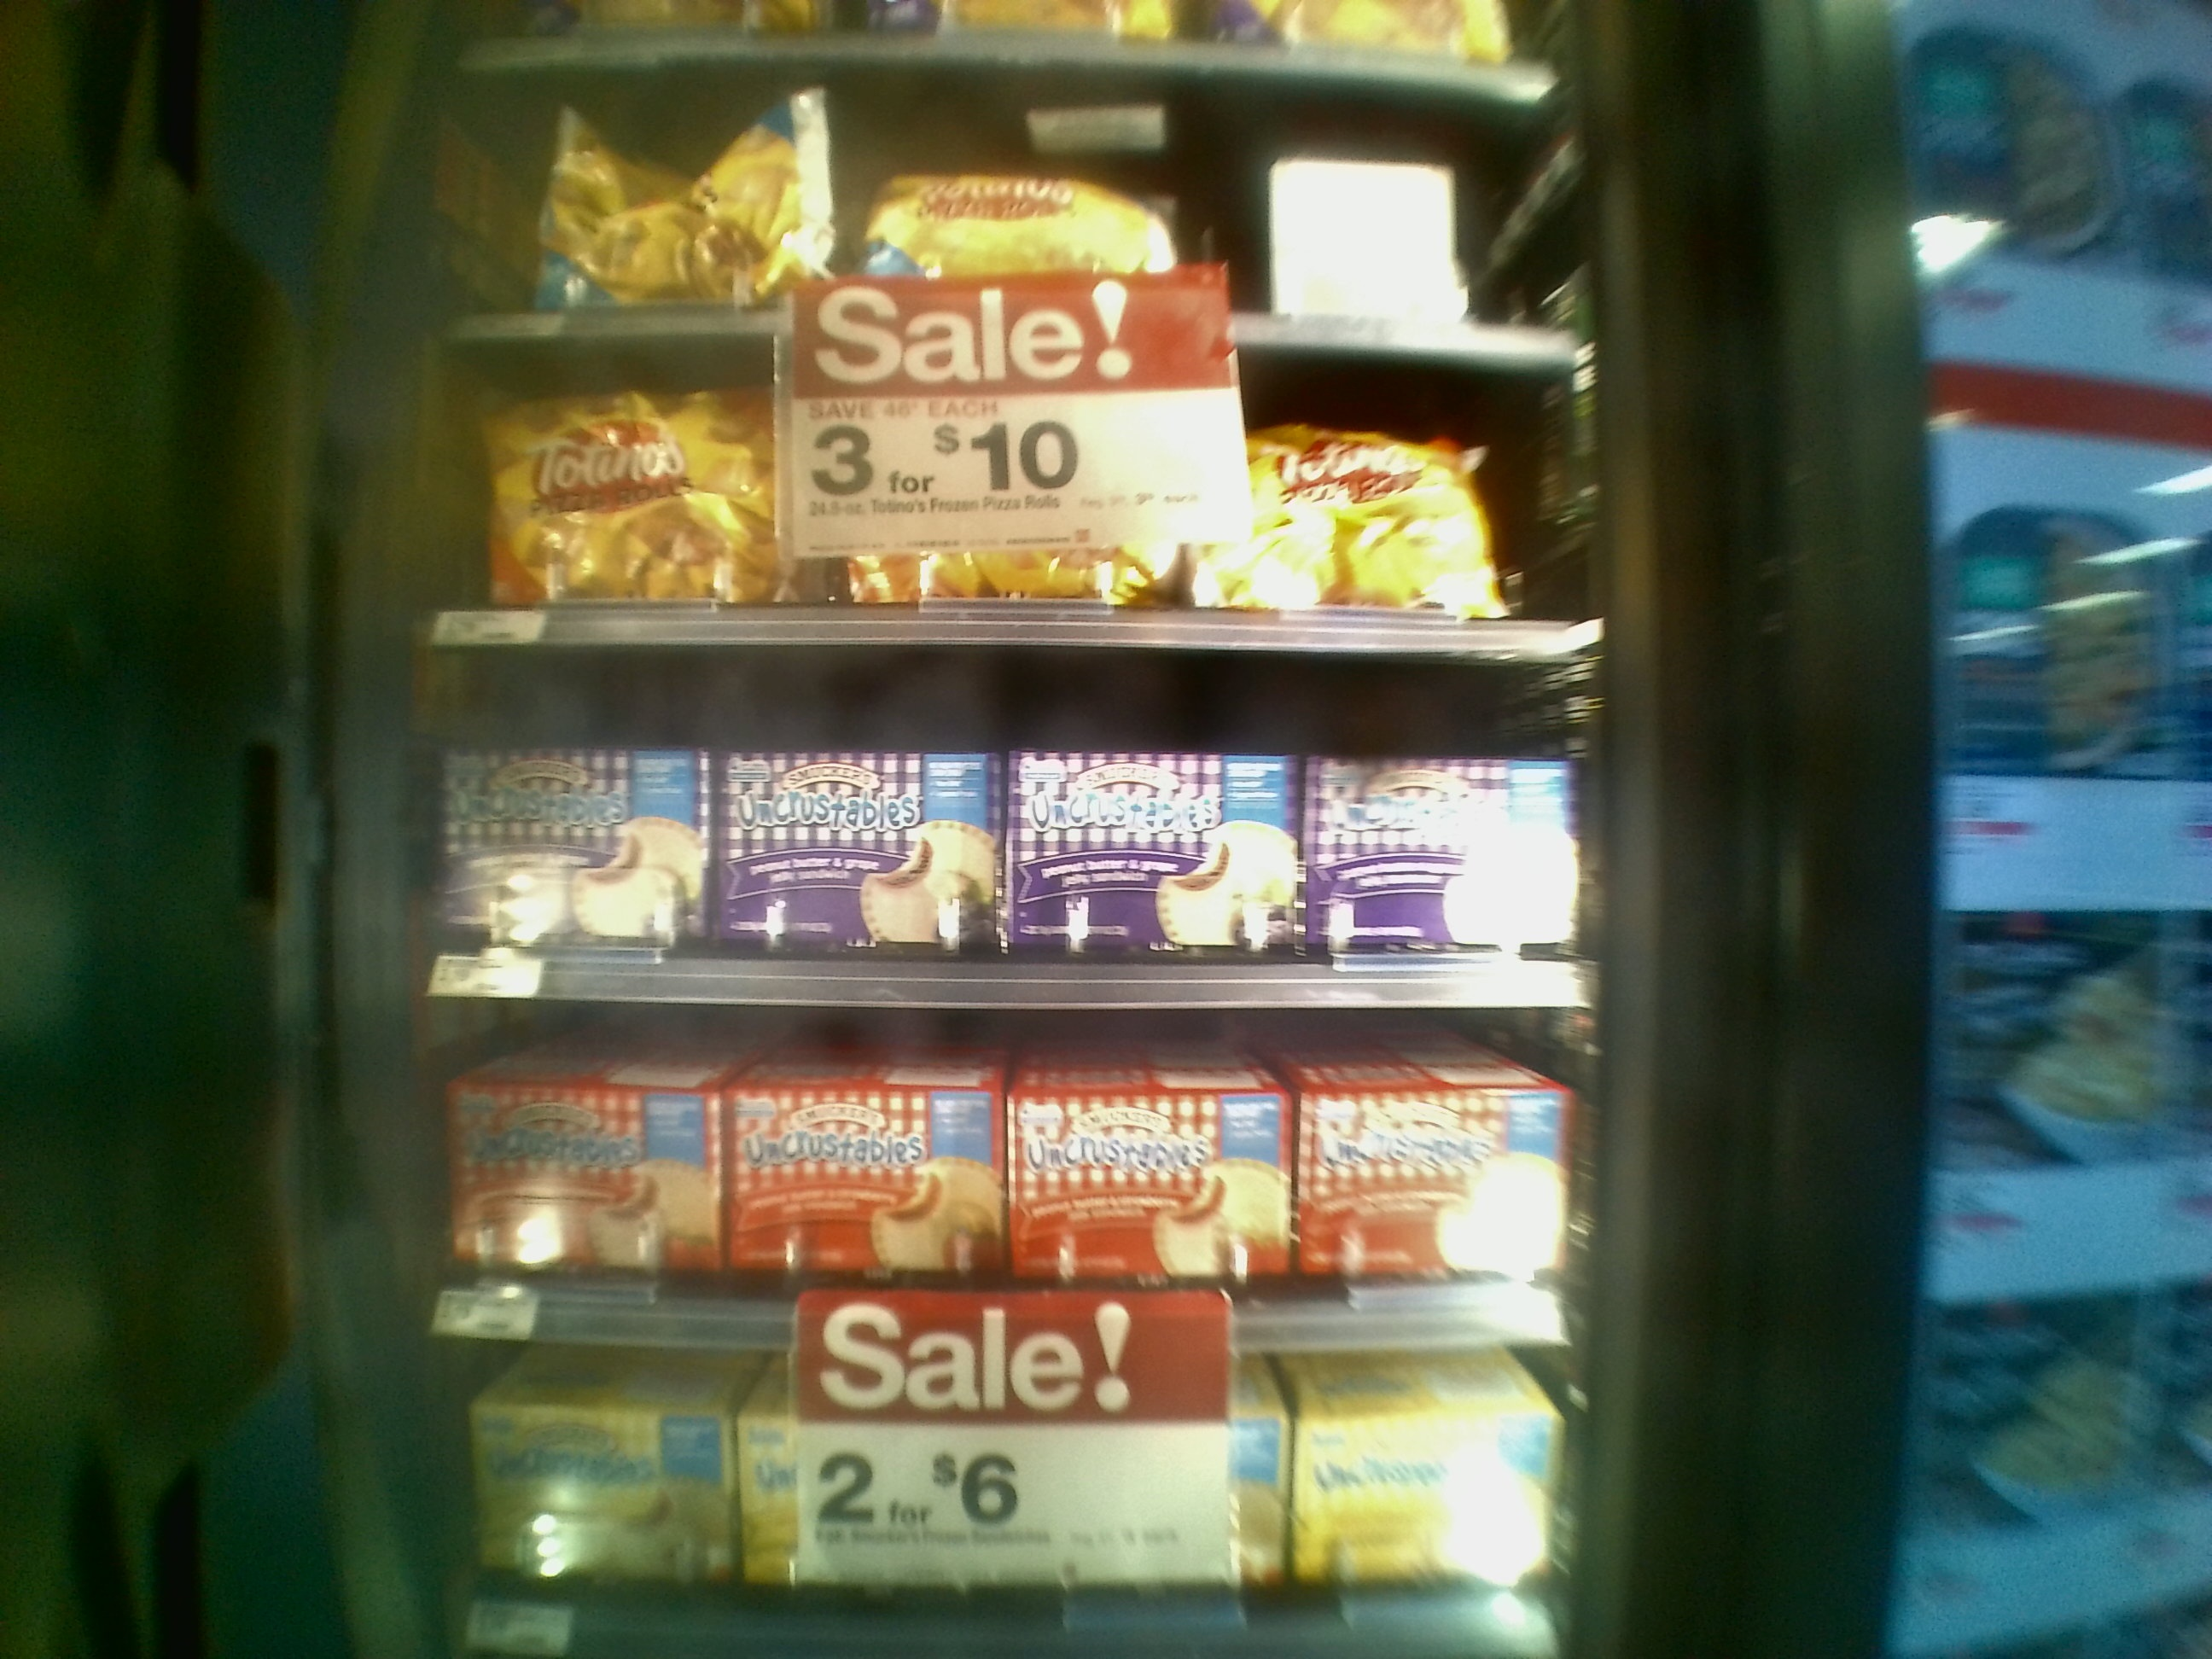shelf: (387, 641, 1613, 1016), (376, 1000, 1594, 1352), (408, 333, 1583, 655), (430, 59, 1602, 362)
